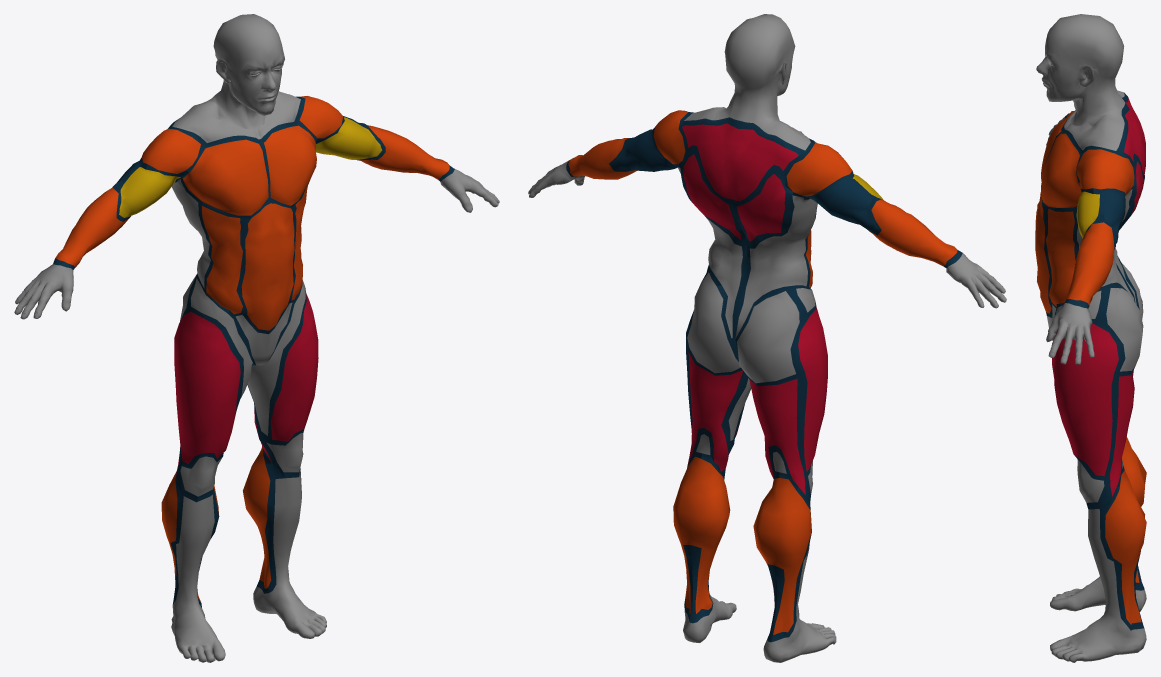
3 views of the same model, side by side, from view 1: azimuth 30°, elevation 25°; view 2: azimuth 150°, elevation 25°; view 3: azimuth 270°, elevation 25° (orthographic).
Visible parts, largest first — view 1: human_body; view 2: human_body; view 3: human_body.
Boxes of the visible parts, <box> form: human_body: <box>14,14,499,662</box>; human_body: <box>528,14,1006,662</box>; human_body: <box>1035,14,1146,662</box>.
Size of the model in its own units: 1.61 by 1.99 by 0.3289.
